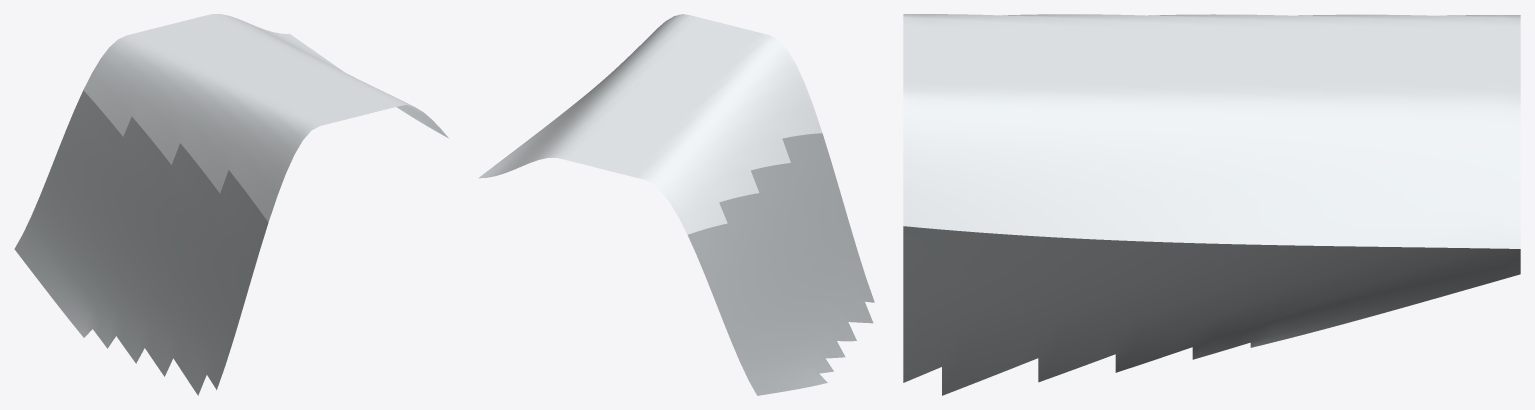
Rendered from alpine-12-10.glb.
3 views of the same model, side by side, from view 1: azimuth 30°, elevation 25°; view 2: azimuth 150°, elevation 25°; view 3: azimuth 270°, elevation 25° (orthographic). The views are drawn at different scales.
Visible parts, largest first — view 1: alpine-12-10; view 2: alpine-12-10; view 3: alpine-12-10.
Part boxes in pixels (x1,y1,x2,y2): alpine-12-10: (14, 14, 449, 395); alpine-12-10: (478, 14, 874, 395); alpine-12-10: (903, 14, 1520, 395).
Bounding box in the file's own units: 256 × 222 × 256.
2 materials, 2 textured.
